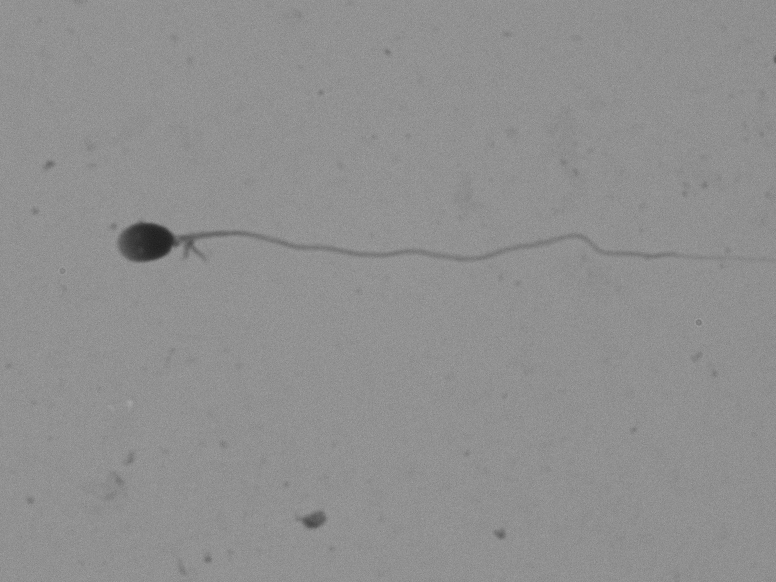Normal: (75, 148, 773, 347)
